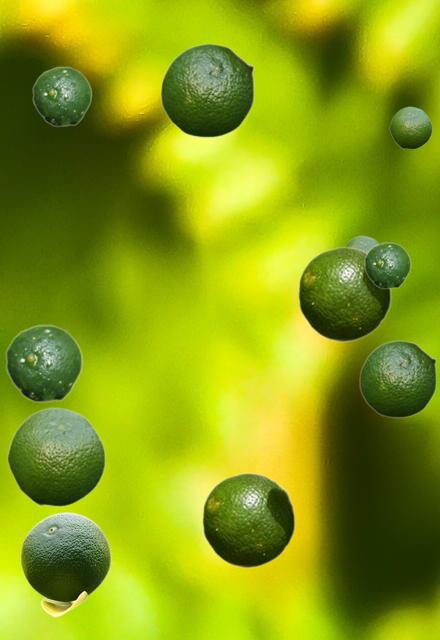calamansi: (6, 406, 105, 506), (20, 512, 110, 616), (297, 246, 391, 341), (201, 472, 295, 567), (160, 43, 254, 137), (5, 324, 82, 402), (359, 340, 436, 417), (32, 66, 91, 126), (364, 242, 410, 288), (389, 106, 431, 148), (345, 235, 378, 251)
